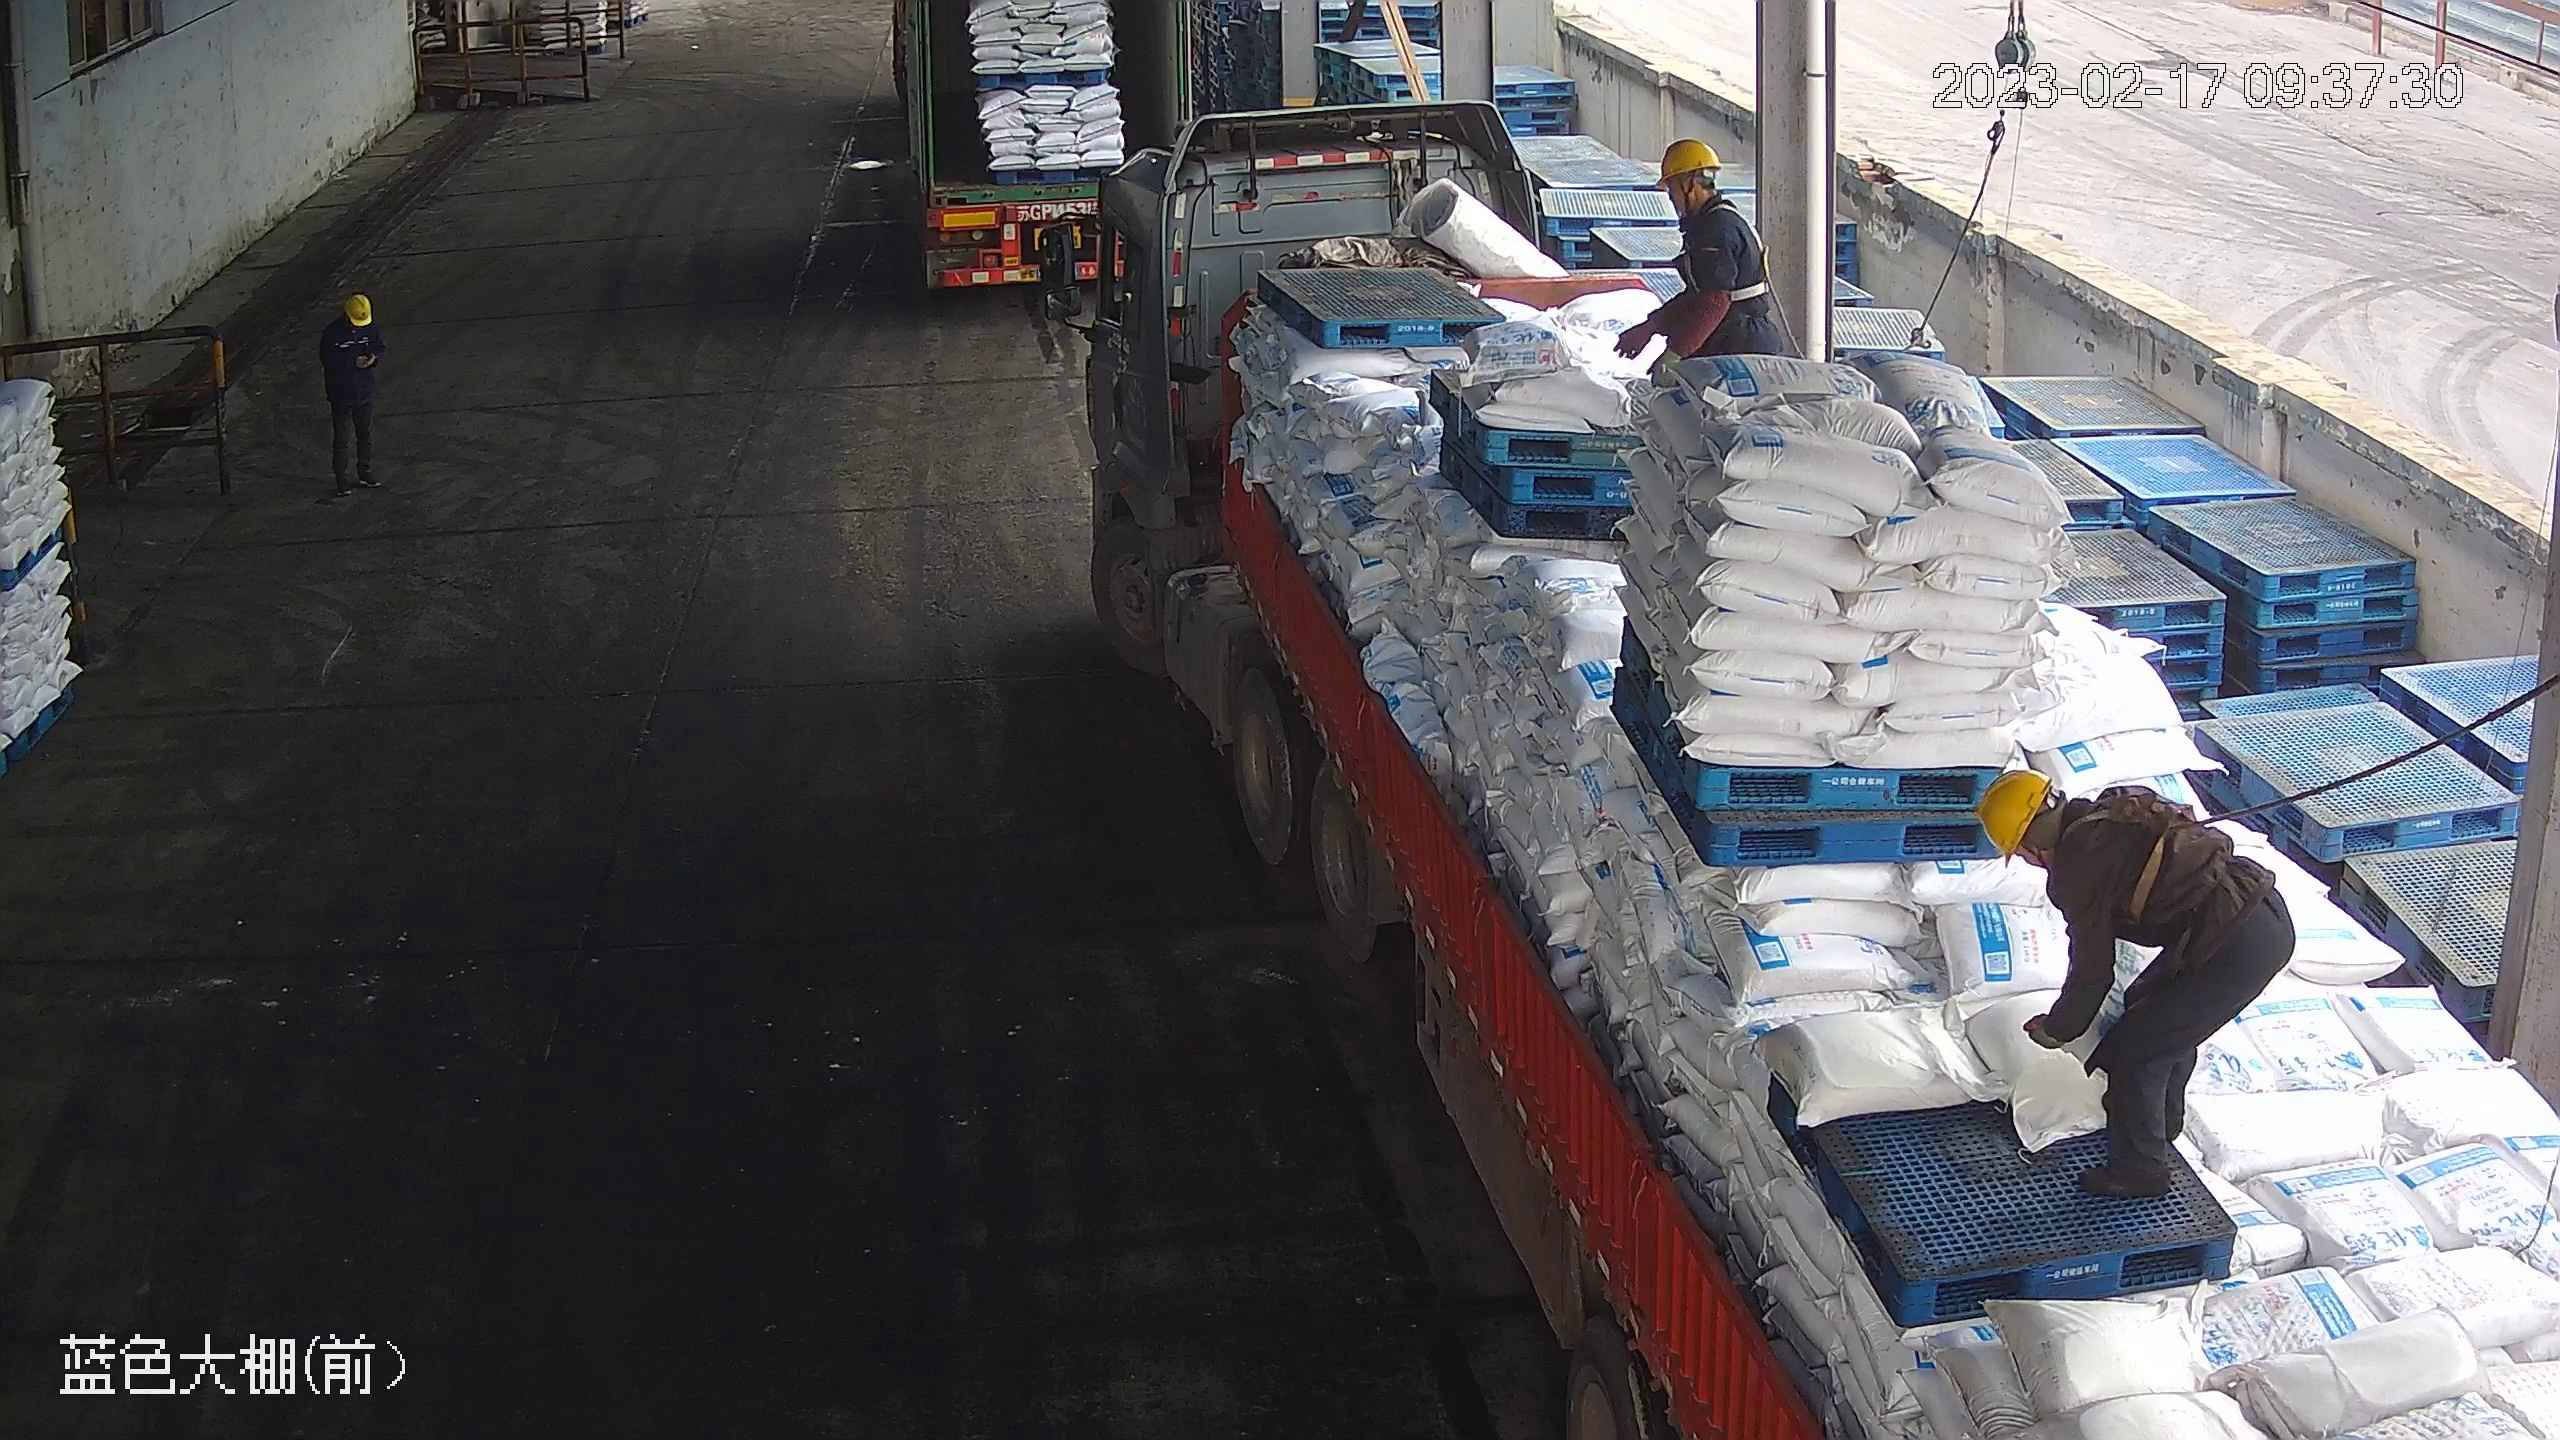belt: (2061, 782, 2207, 915), (1700, 203, 1771, 304)
head: (1976, 766, 2157, 908), (1653, 136, 1760, 258), (319, 291, 384, 352)
helmet: (1974, 767, 2054, 867), (1654, 135, 1721, 182), (342, 291, 375, 323)
people: (1971, 768, 2299, 1203), (1614, 137, 1786, 388), (317, 291, 387, 493)
truck: (1034, 97, 2553, 1439), (888, 1, 1200, 292)
